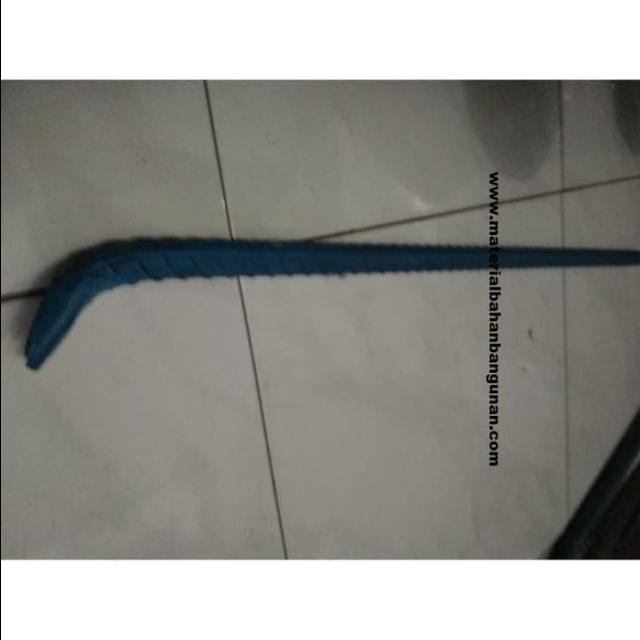Linggis: (18, 236, 634, 382)
